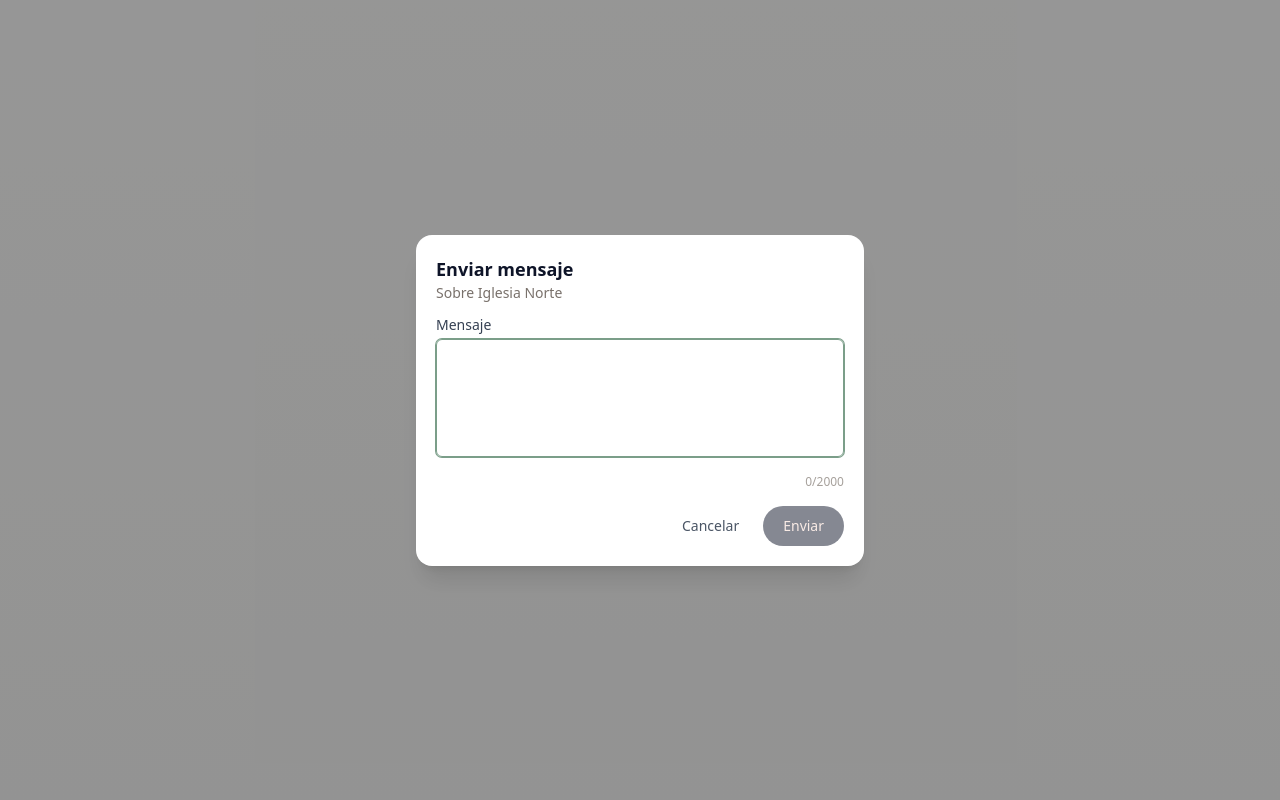
MessageComposer › sends the trimmed text and counts characters
This screenshot has width=1280, height=800.
Later steps or results of the test are not shown.
In the text box labelled "Mensaje": (640, 398) [436,338,844,456], type " Hola "
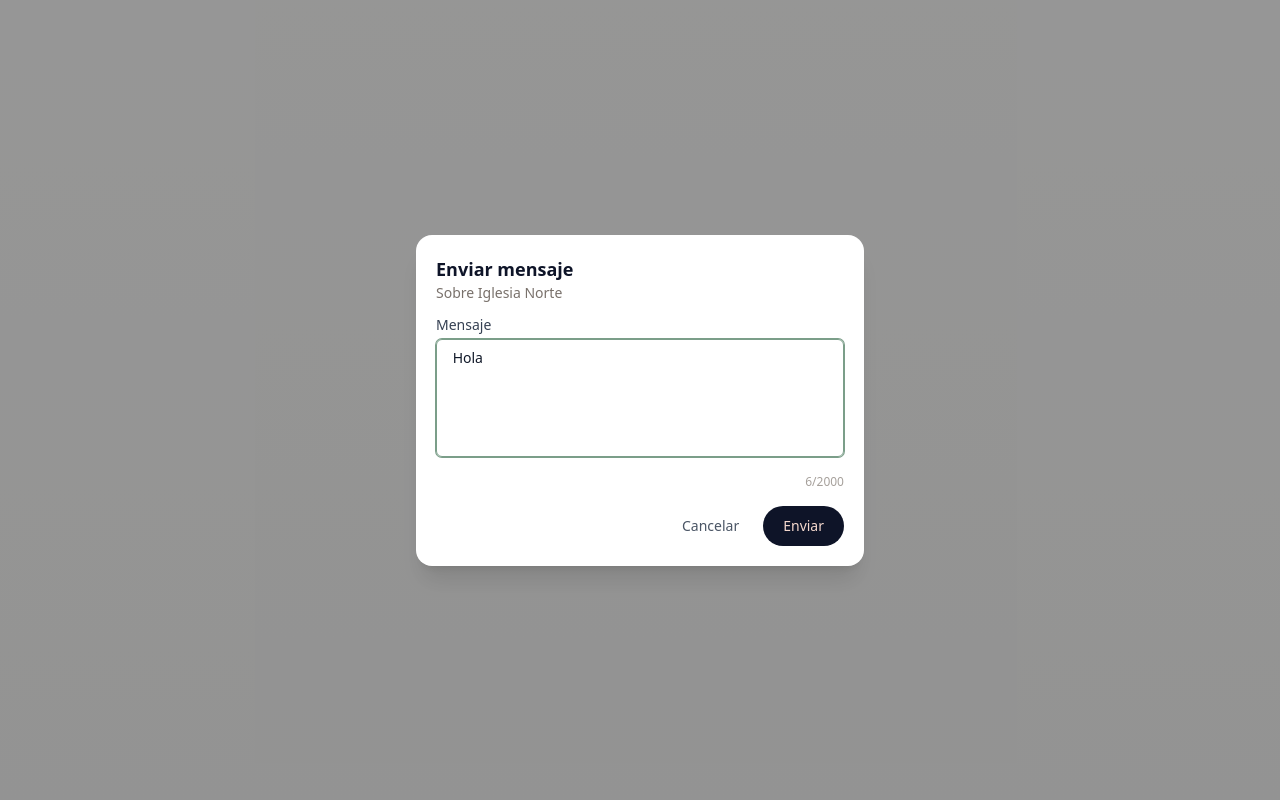
Expected: the text "6/2000" is shown, [805,472,844,490]
